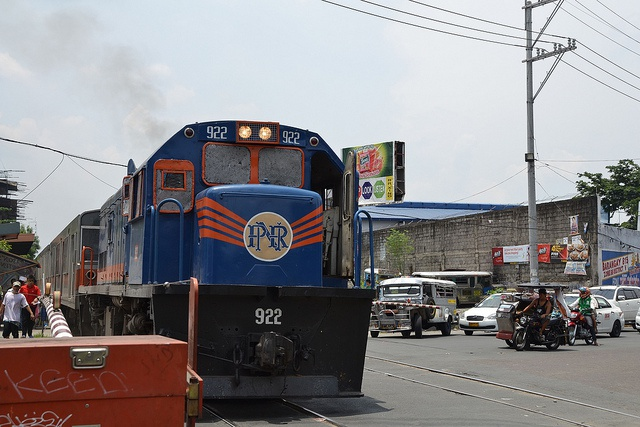non-vehicle: (512, 311, 567, 350), (566, 307, 592, 345)
